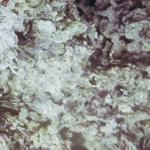dead: (7, 8, 143, 147)
